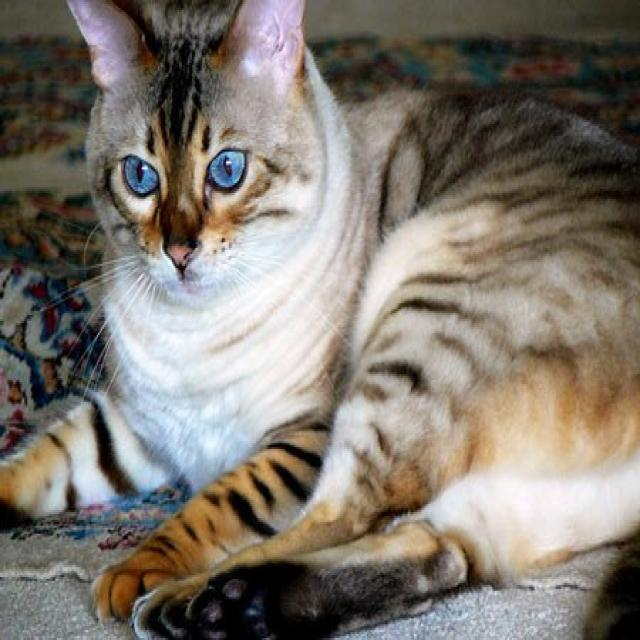Bengal: (66, 0, 325, 309)
